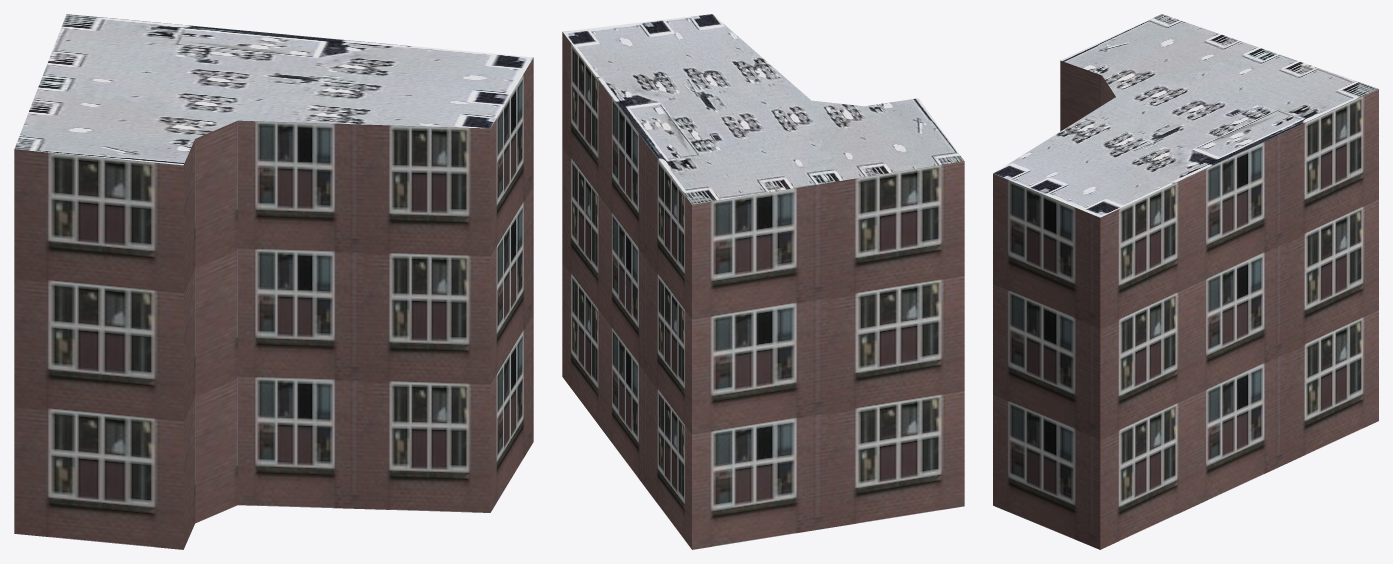
File: ResTex__4116.fbx
The picture shows the model from 3 angles, left to right: view 1: azimuth 30°, elevation 25°; view 2: azimuth 150°, elevation 25°; view 3: azimuth 270°, elevation 25°; orthographic projection. The views are drawn at different scales.
Parts seen in each view (by area): view 1: CityEngineMaterial_12_m, CityEngineMaterial_8_m; view 2: CityEngineMaterial_12_m, CityEngineMaterial_8_m; view 3: CityEngineMaterial_12_m, CityEngineMaterial_8_m.
Boxes of the visible parts, x1,y1,x2,y2 form: CityEngineMaterial_12_m: [14, 58, 533, 549]; CityEngineMaterial_8_m: [14, 14, 533, 165]; CityEngineMaterial_12_m: [562, 32, 964, 549]; CityEngineMaterial_8_m: [563, 14, 963, 204]; CityEngineMaterial_12_m: [993, 60, 1378, 549]; CityEngineMaterial_8_m: [993, 14, 1378, 217].
Size of the model in its own units: 11.84 by 9 by 9.47.
2 materials, 2 textured.
